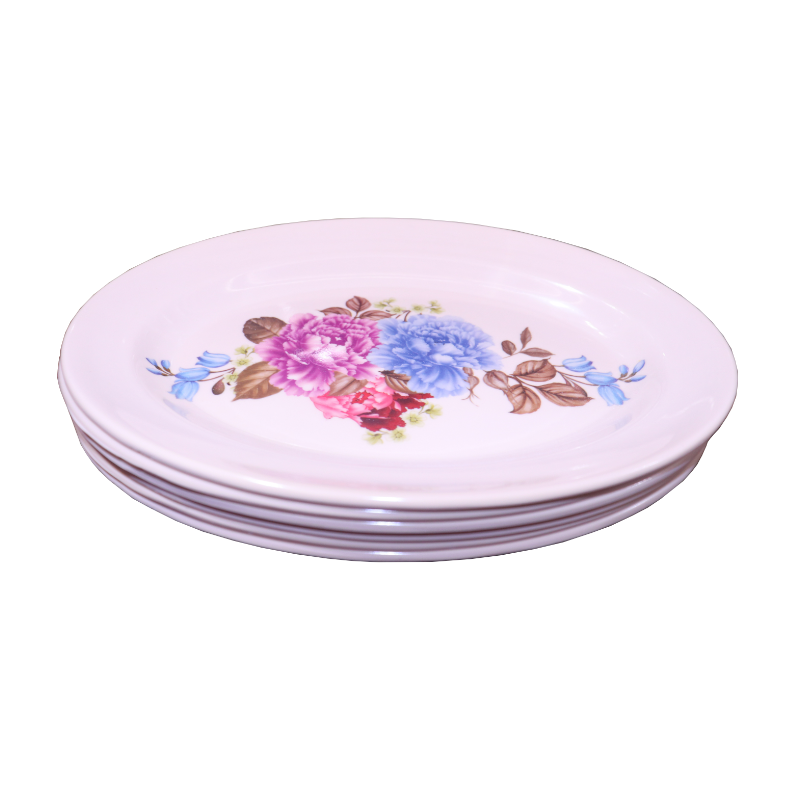plate: (53, 205, 777, 574)
